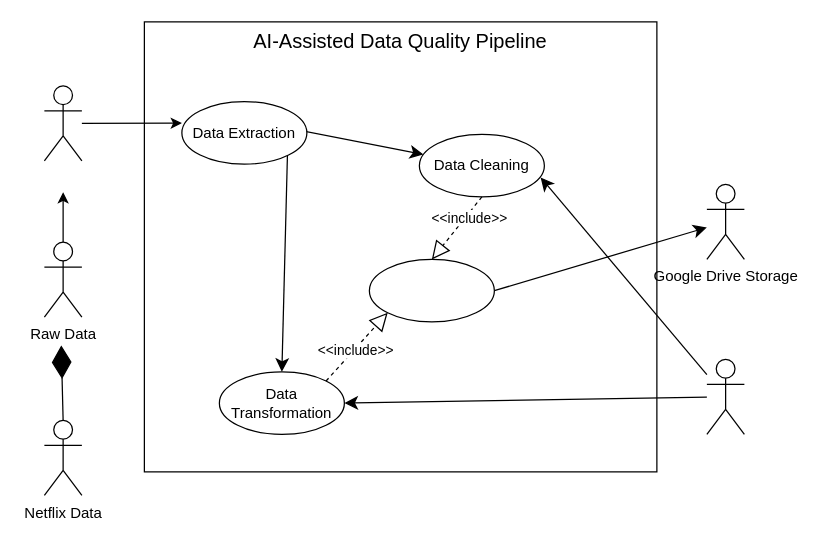
The diagram is 819 pixels wide and 544 high, and some of its shapes have lost their labels. Here are the shapes that lost their labels. From the top down, the centre of each, then its label:
(x=62, y=123): Data Source
(x=431, y=290): Data Loading
(x=725, y=396): Gemini AI Agent
